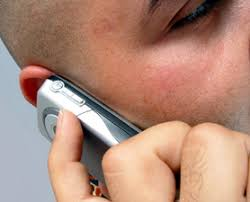phone: (37, 74, 184, 202)
